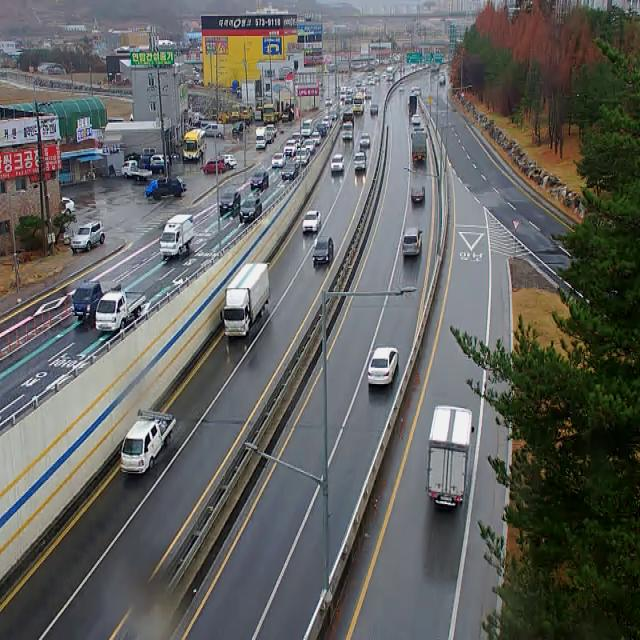Bus: (183, 129, 206, 160), (353, 94, 365, 114)
Car: (120, 410, 176, 475), (368, 347, 399, 385), (71, 220, 105, 254), (404, 173, 428, 211), (313, 236, 334, 264), (403, 227, 423, 256), (240, 198, 262, 222), (302, 210, 322, 234), (138, 155, 164, 173), (219, 191, 241, 212), (250, 171, 269, 190), (201, 123, 225, 138), (202, 159, 224, 174), (282, 162, 299, 180), (61, 197, 75, 216), (353, 152, 367, 171), (283, 140, 298, 156), (296, 148, 310, 165), (331, 155, 344, 173), (223, 155, 237, 170), (272, 153, 286, 168), (150, 155, 170, 165), (232, 121, 246, 135), (303, 139, 315, 154), (281, 109, 294, 122), (292, 132, 304, 146), (342, 126, 354, 139), (343, 112, 354, 126), (310, 132, 321, 146), (266, 125, 277, 138), (360, 133, 370, 147), (322, 116, 332, 128), (370, 103, 379, 116), (412, 115, 422, 125), (317, 124, 327, 134), (266, 133, 274, 144), (345, 94, 353, 104), (325, 97, 332, 106)
Truck: (428, 406, 474, 506), (220, 262, 271, 337), (96, 292, 146, 331), (72, 280, 121, 318), (159, 214, 194, 258), (151, 177, 187, 200), (122, 161, 152, 181), (411, 131, 428, 162), (262, 105, 278, 123), (256, 127, 266, 150), (302, 119, 314, 136)
